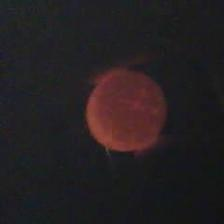infertile: (85, 67, 170, 153)
